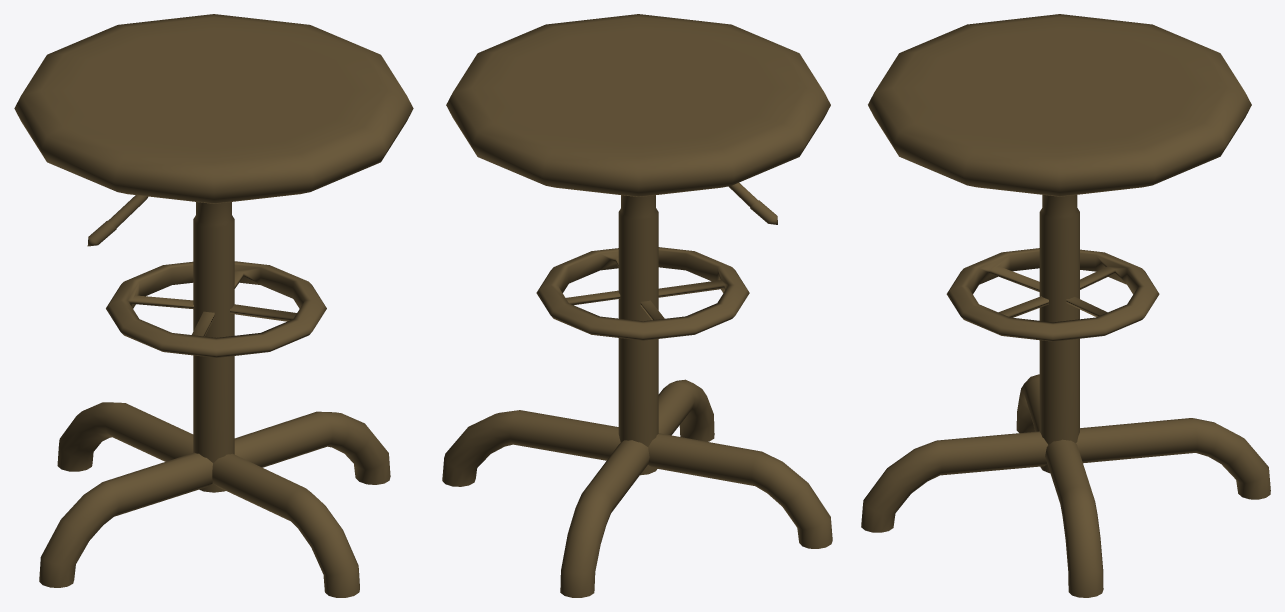
Rendered from SillaSimple.fbx.
3 renders of one model, left to right at view 1: azimuth 30°, elevation 25°; view 2: azimuth 150°, elevation 25°; view 3: azimuth 270°, elevation 25°, orthographic. The views are drawn at different scales.
Parts seen in each view (by area): view 1: polySurface24; view 2: polySurface24; view 3: polySurface24.
Boxes of the visible parts, bbox=[...] form: polySurface24: bbox=[14, 14, 413, 597]; polySurface24: bbox=[442, 14, 832, 597]; polySurface24: bbox=[861, 14, 1270, 597].
Size of the model in its own units: 2.02 by 2.27 by 2.
